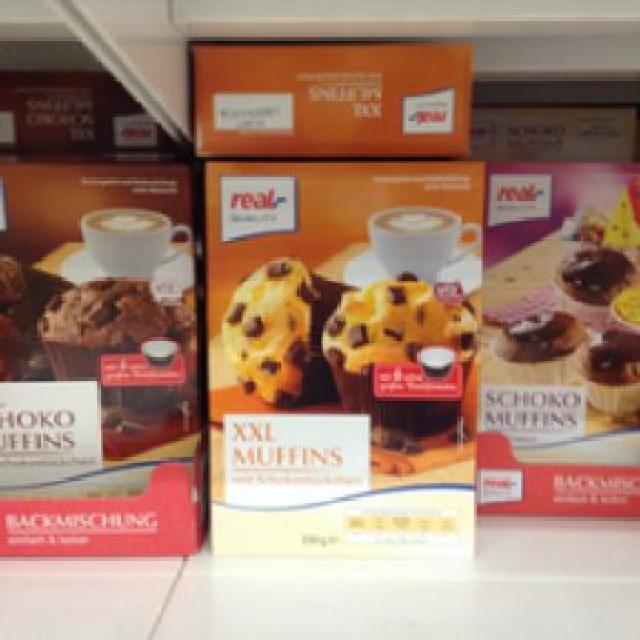Cake: (202, 151, 478, 564), (0, 153, 195, 558), (472, 142, 638, 518)
